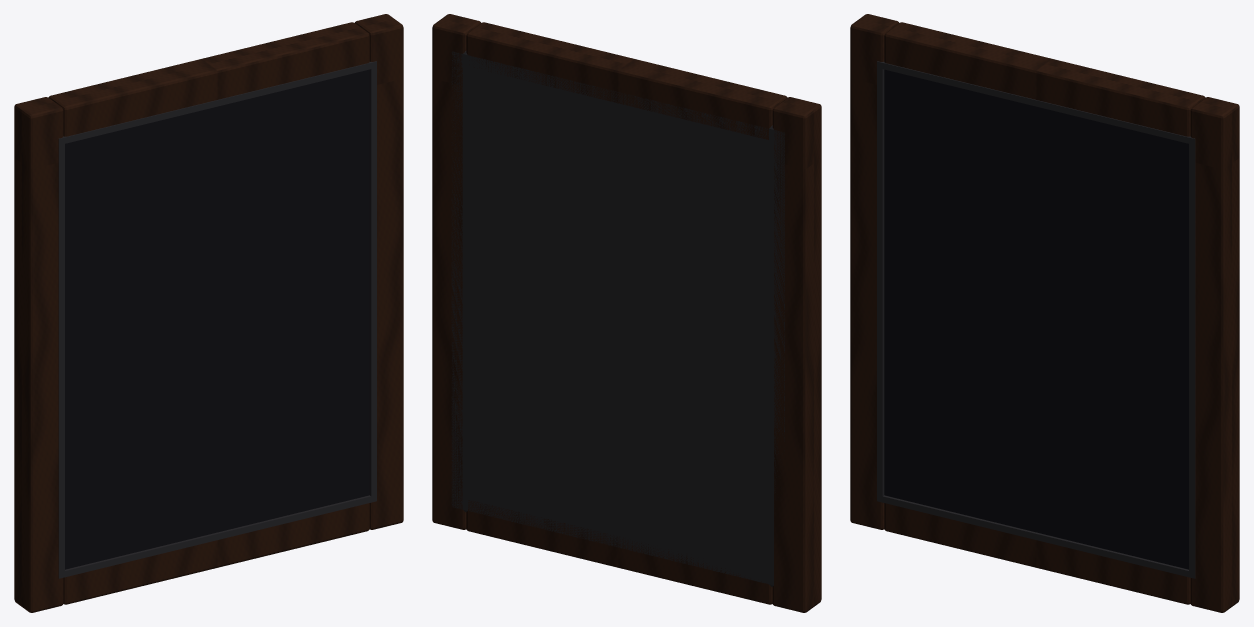
The model's file is digital_photo_frame.glb.
3 views of the same model, side by side, from view 1: azimuth 30°, elevation 25°; view 2: azimuth 150°, elevation 25°; view 3: azimuth 330°, elevation 25° (orthographic).
Parts seen in each view (by area): view 1: panel.001, frame_side_-1.003, frame_side_1.003, frame_top.003, frame_bottom.003, bezel_side_1, bezel_side_-1, bezel_bottom, bezel_top; view 2: back_box.001, frame_side_-1.003, frame_side_1.003, frame_top.003, frame_bottom.003; view 3: panel.001, frame_side_1.003, frame_side_-1.003, frame_top.003, frame_bottom.003, bezel_side_-1, bezel_side_1, bezel_bottom, bezel_top.
Part boxes in pixels (x1,y1,x2,y2): panel.001: (65,69,369,569); frame_side_-1.003: (14,97,63,612); frame_side_1.003: (355,14,403,529); frame_top.003: (48,22,369,136); frame_bottom.003: (63,503,369,604); bezel_side_1: (369,64,376,499); bezel_side_-1: (58,141,64,575); bezel_bottom: (58,495,376,578); bezel_top: (58,61,376,144); back_box.001: (451,51,784,586); frame_side_-1.003: (772,97,821,612); frame_side_1.003: (432,14,480,529); frame_top.003: (466,22,787,139); frame_bottom.003: (466,500,772,604); panel.001: (884,69,1188,569); frame_side_1.003: (1190,97,1239,612); frame_side_-1.003: (850,14,898,529); frame_top.003: (884,22,1205,136); frame_bottom.003: (884,503,1190,604); bezel_side_-1: (877,64,884,499); bezel_side_1: (1189,141,1195,575); bezel_bottom: (877,495,1195,578); bezel_top: (877,61,1195,143).
Bounding box in the file's own units: 0.44 × 0.56 × 0.036.
Materials: 3 (1 with a texture image).
